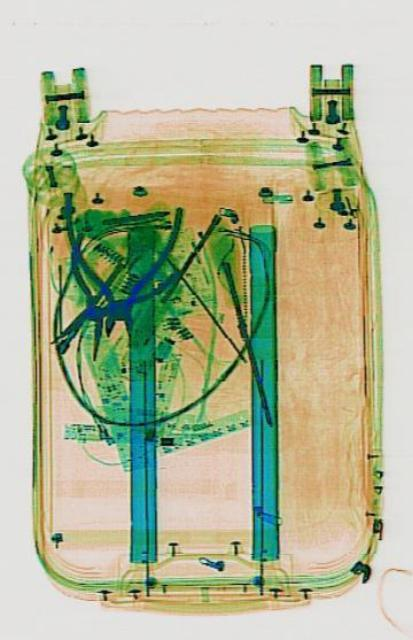Pliers: (49, 222, 177, 386), (59, 190, 181, 338)
